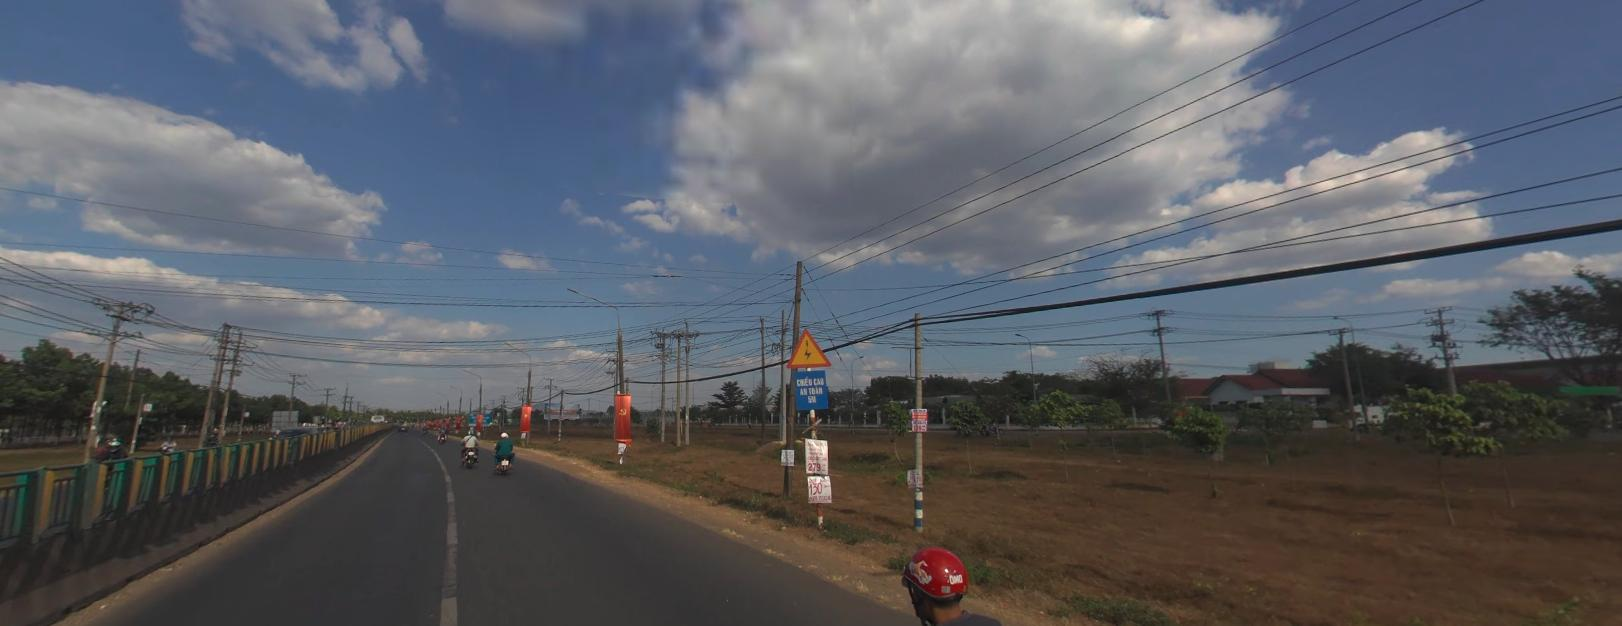Nguy hiem: (786, 324, 832, 365)
